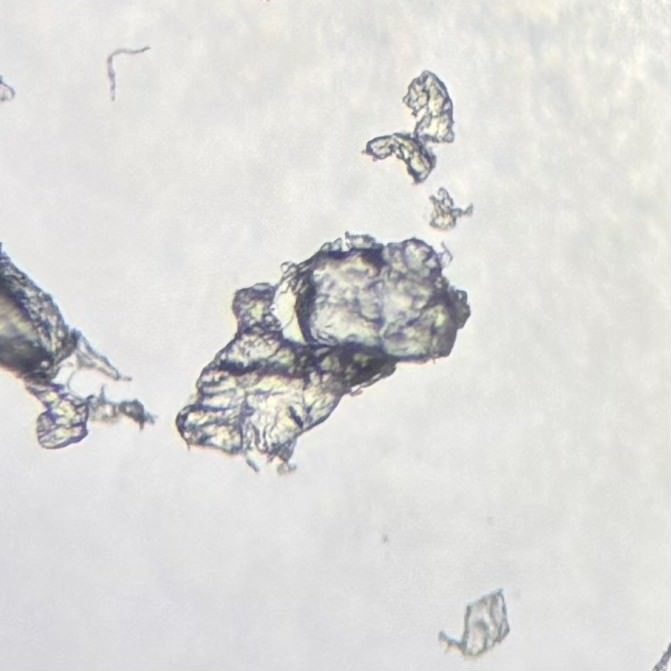microplastic: (174, 231, 472, 477), (1, 238, 159, 450), (361, 68, 457, 187), (438, 588, 511, 658), (105, 46, 150, 102), (426, 187, 474, 232), (650, 640, 671, 671), (1, 74, 14, 103)
